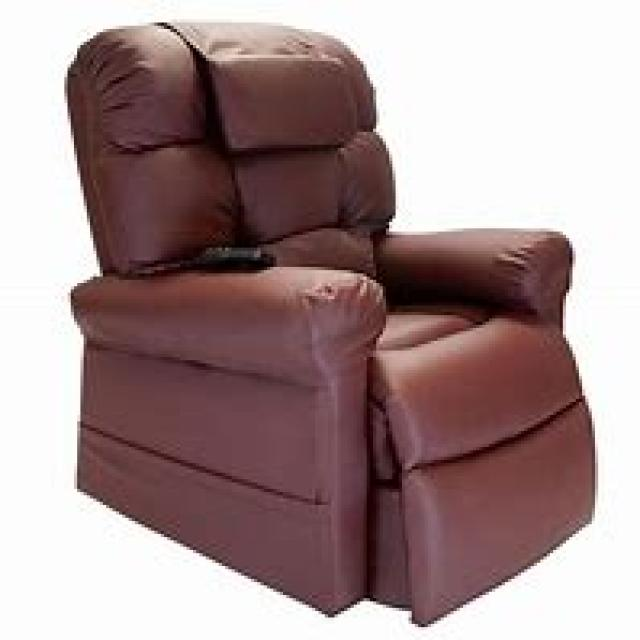chair: (61, 16, 595, 624)
